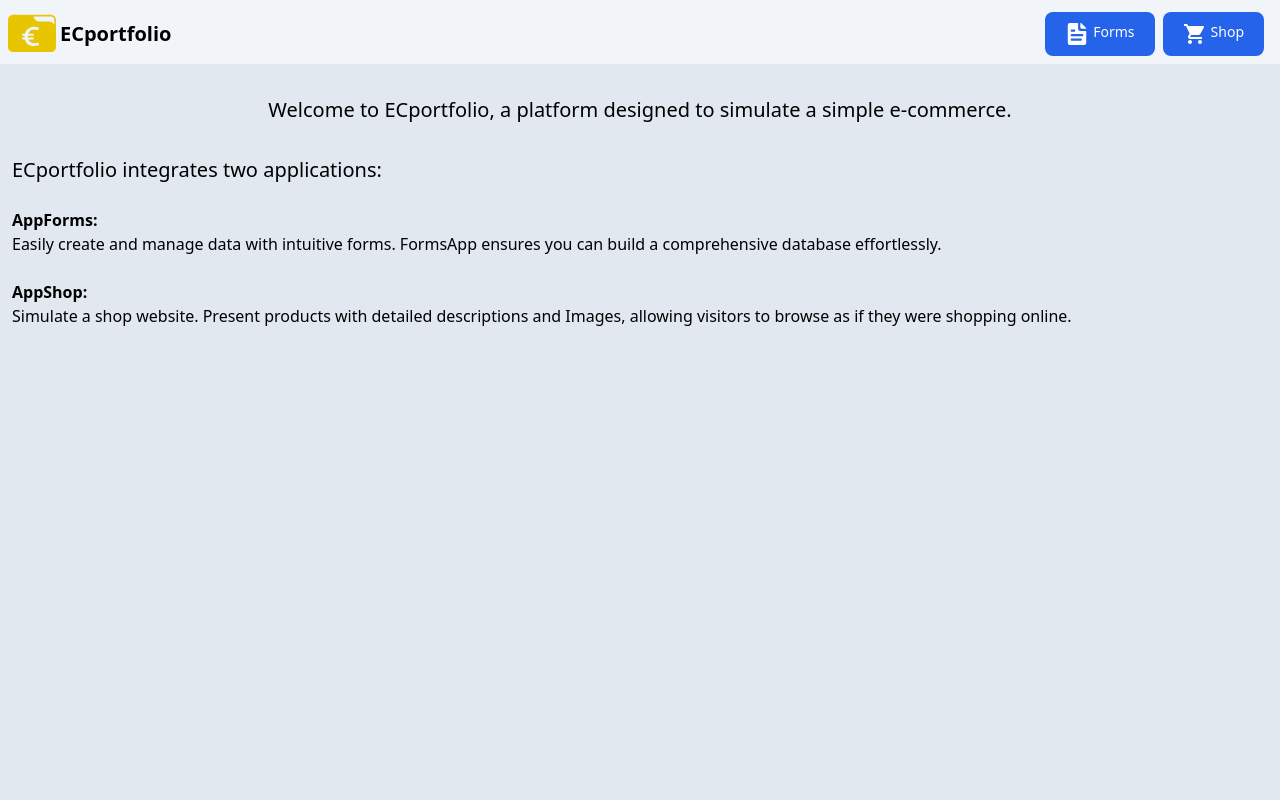
Test: Navigation Buttons › To Shop
Click the button with id "NavigationShopApp" at coordinates (1214, 34), box [1163,12,1264,56]
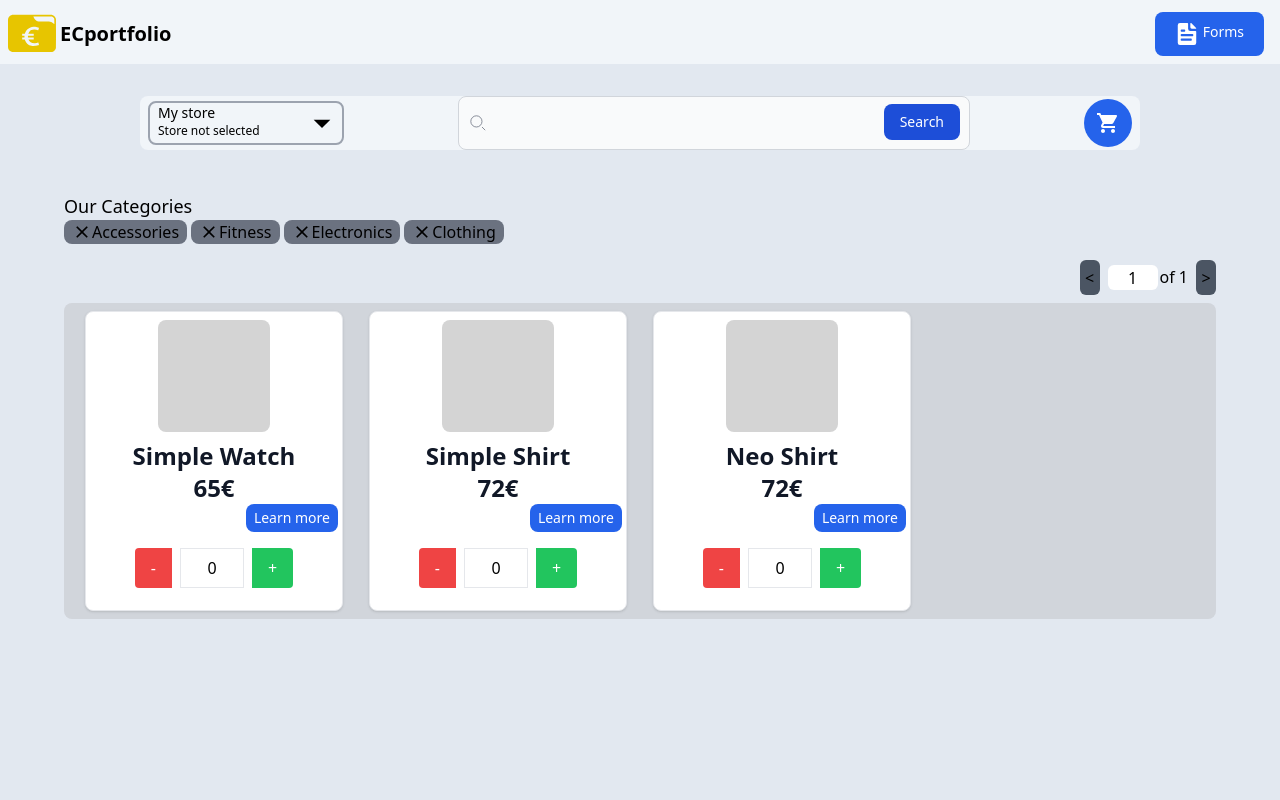
Expected: the button with id "NavigationFormsApp" is shown, [1155,12,1264,56]
Result: the button with id "NavigationShopApp" is gone
Result: the text "Our Categories" is shown at [64,194,192,218]
